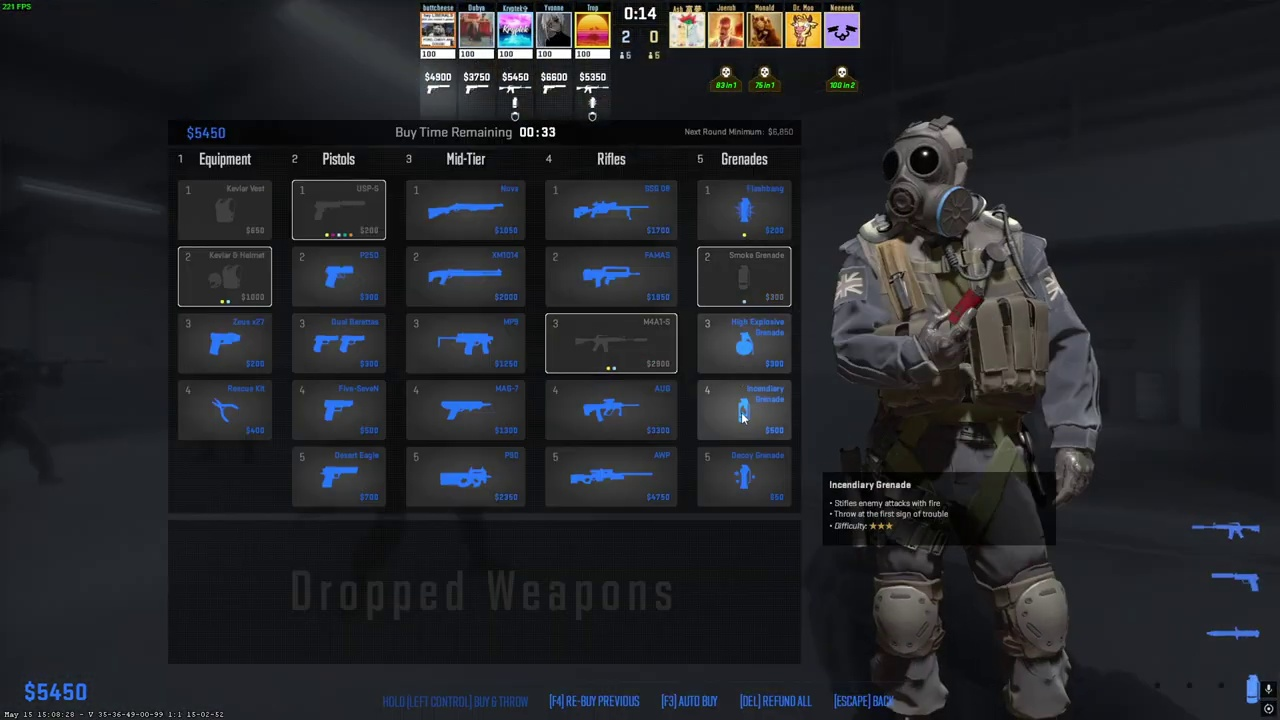CT: (855, 122, 1077, 720), (0, 345, 54, 490)
